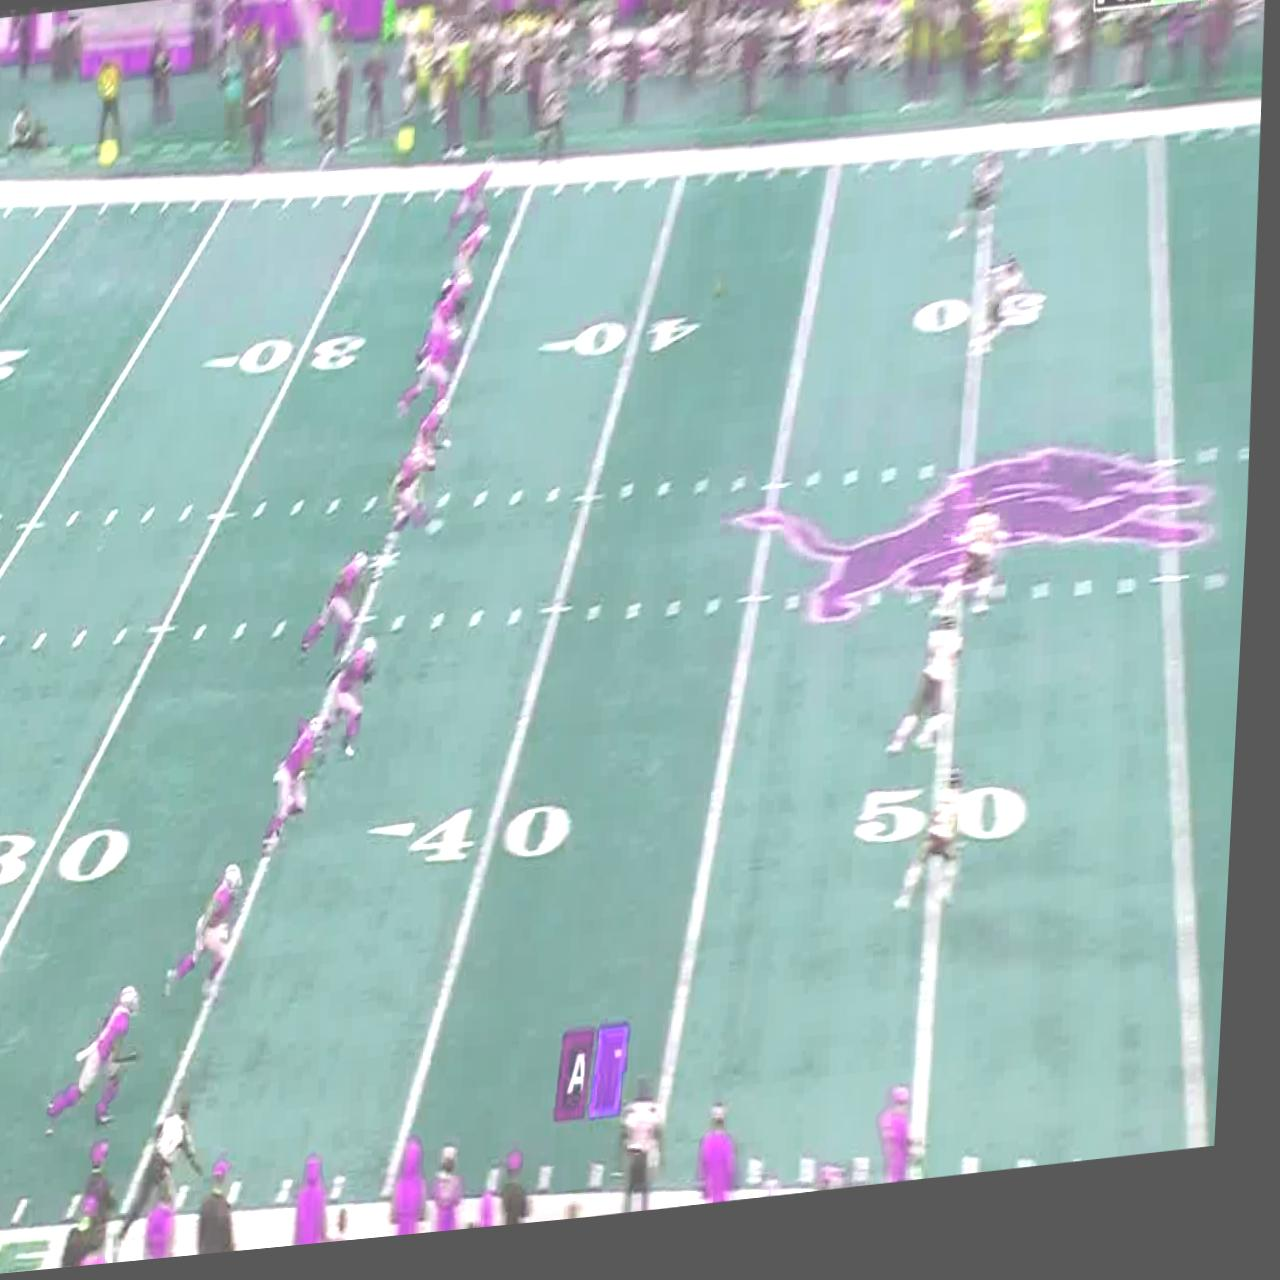20L: (0, 346, 34, 384)
30L: (0, 819, 141, 896), (203, 336, 372, 394)
40L: (375, 809, 584, 886), (540, 324, 709, 381)
50: (862, 790, 1042, 874), (915, 309, 1054, 360)
